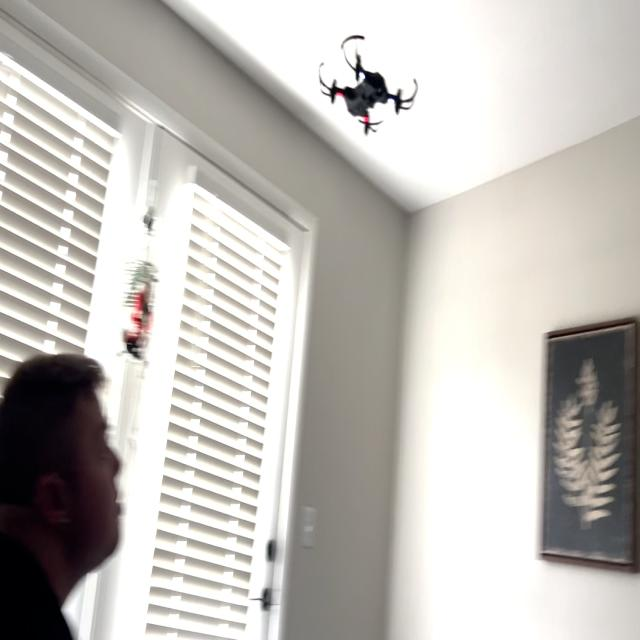drone: (311, 22, 419, 144)
